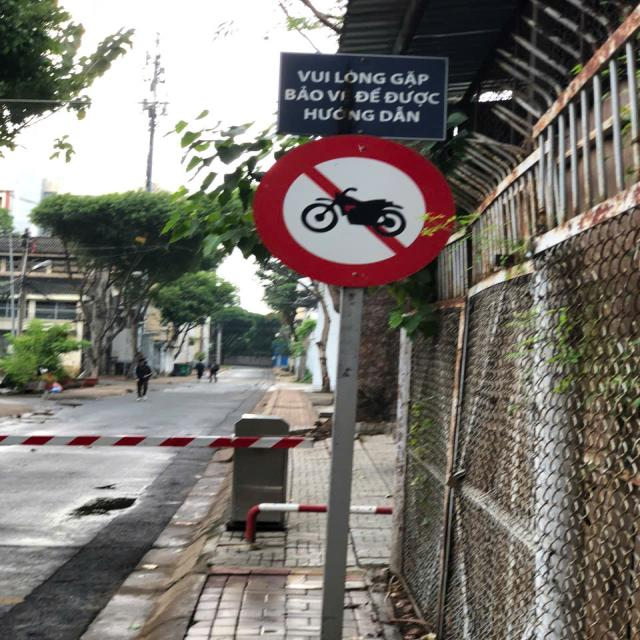Bien bao cam xe may: (244, 134, 461, 284)
